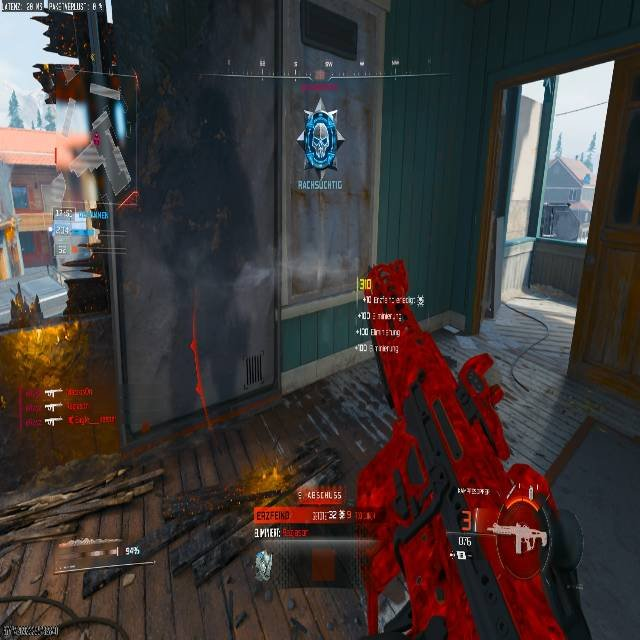player: (299, 96, 340, 171)
